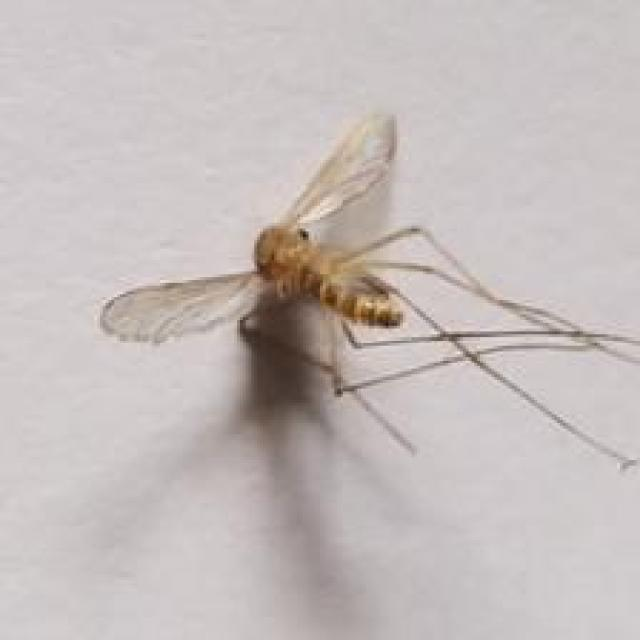Culex: (97, 109, 640, 474)
